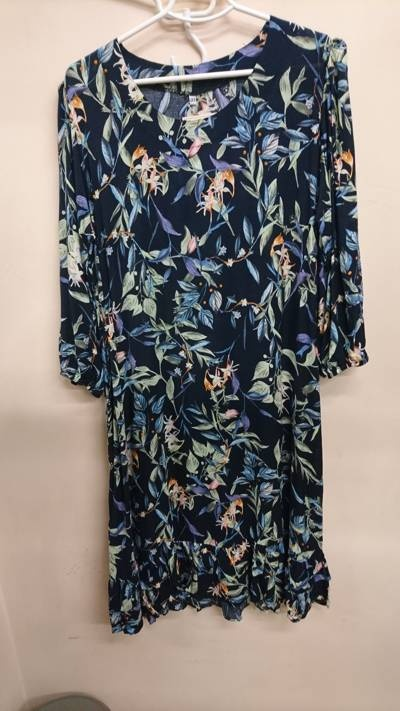Dress: (15, 16, 378, 648)
